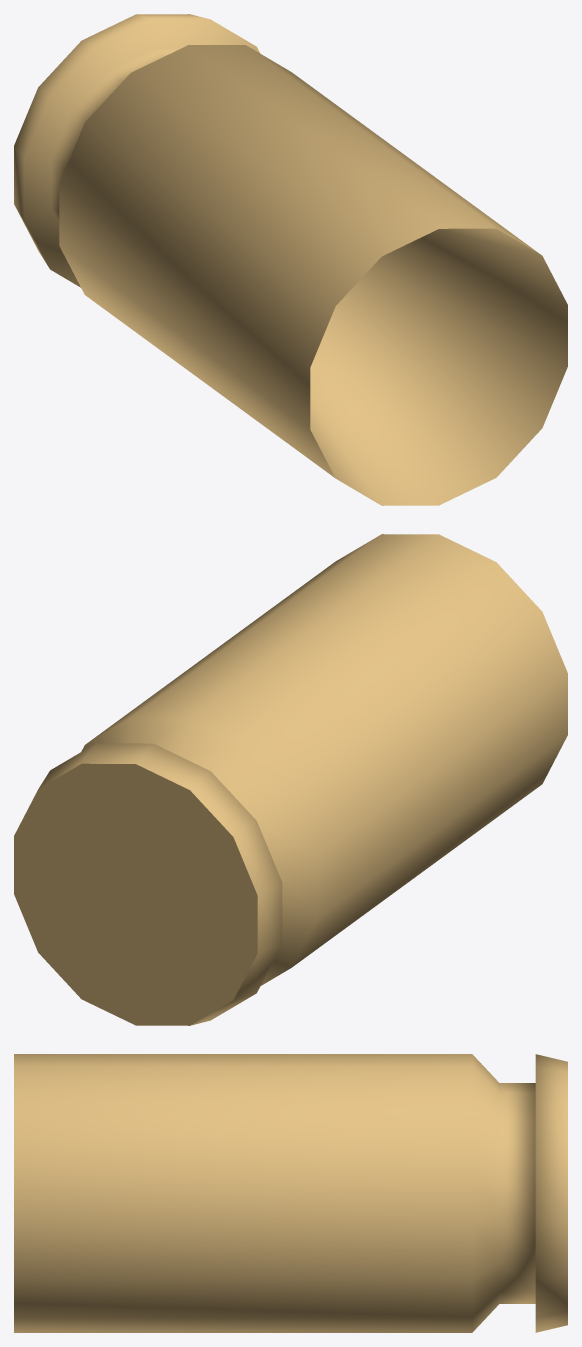
Rendered from shell_pistol.glb.
3 views of the same model, one above another, from view 1: azimuth 30°, elevation 25°; view 2: azimuth 150°, elevation 25°; view 3: azimuth 270°, elevation 25° (orthographic). The views are drawn at different scales.
Visible parts, largest first — view 1: pistol shell_LOD0; view 2: pistol shell_LOD0; view 3: pistol shell_LOD0.
Part boxes in pixels (box(x1,y1,x2,y2)): pistol shell_LOD0: box(14, 14, 567, 505); pistol shell_LOD0: box(14, 534, 567, 1025); pistol shell_LOD0: box(14, 1054, 567, 1332).
Size of what is drawn, in the model's own units: 0.0177 by 0.0181 by 0.0361.
